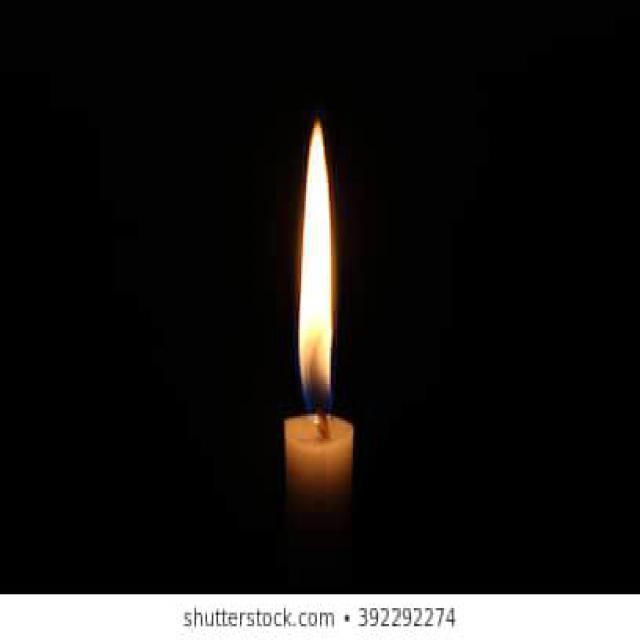Fire: (296, 121, 334, 416)
